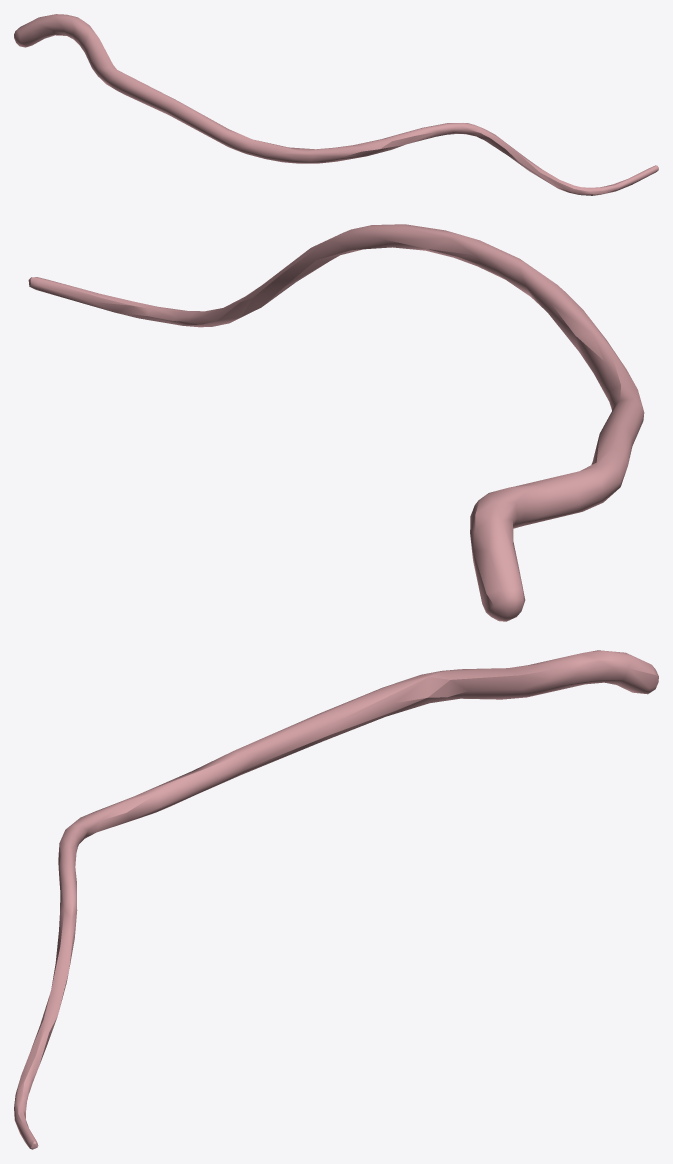
Rendered from fma71888_fj3089.glb.
The picture shows the model from 3 angles, top to bottom: view 1: azimuth 30°, elevation 25°; view 2: azimuth 150°, elevation 25°; view 3: azimuth 270°, elevation 25°; orthographic projection. The views are drawn at different scales.
Parts seen in each view (by area): view 1: FMA71888_FJ3089; view 2: FMA71888_FJ3089; view 3: FMA71888_FJ3089.
Part boxes in pixels (left/top/right/bottom): FMA71888_FJ3089: left=14, top=14, right=658, bottom=195; FMA71888_FJ3089: left=28, top=224, right=644, bottom=621; FMA71888_FJ3089: left=14, top=650, right=658, bottom=1149.
Bounding box in the file's own units: 0.0447 × 0.0124 × 0.0365.
